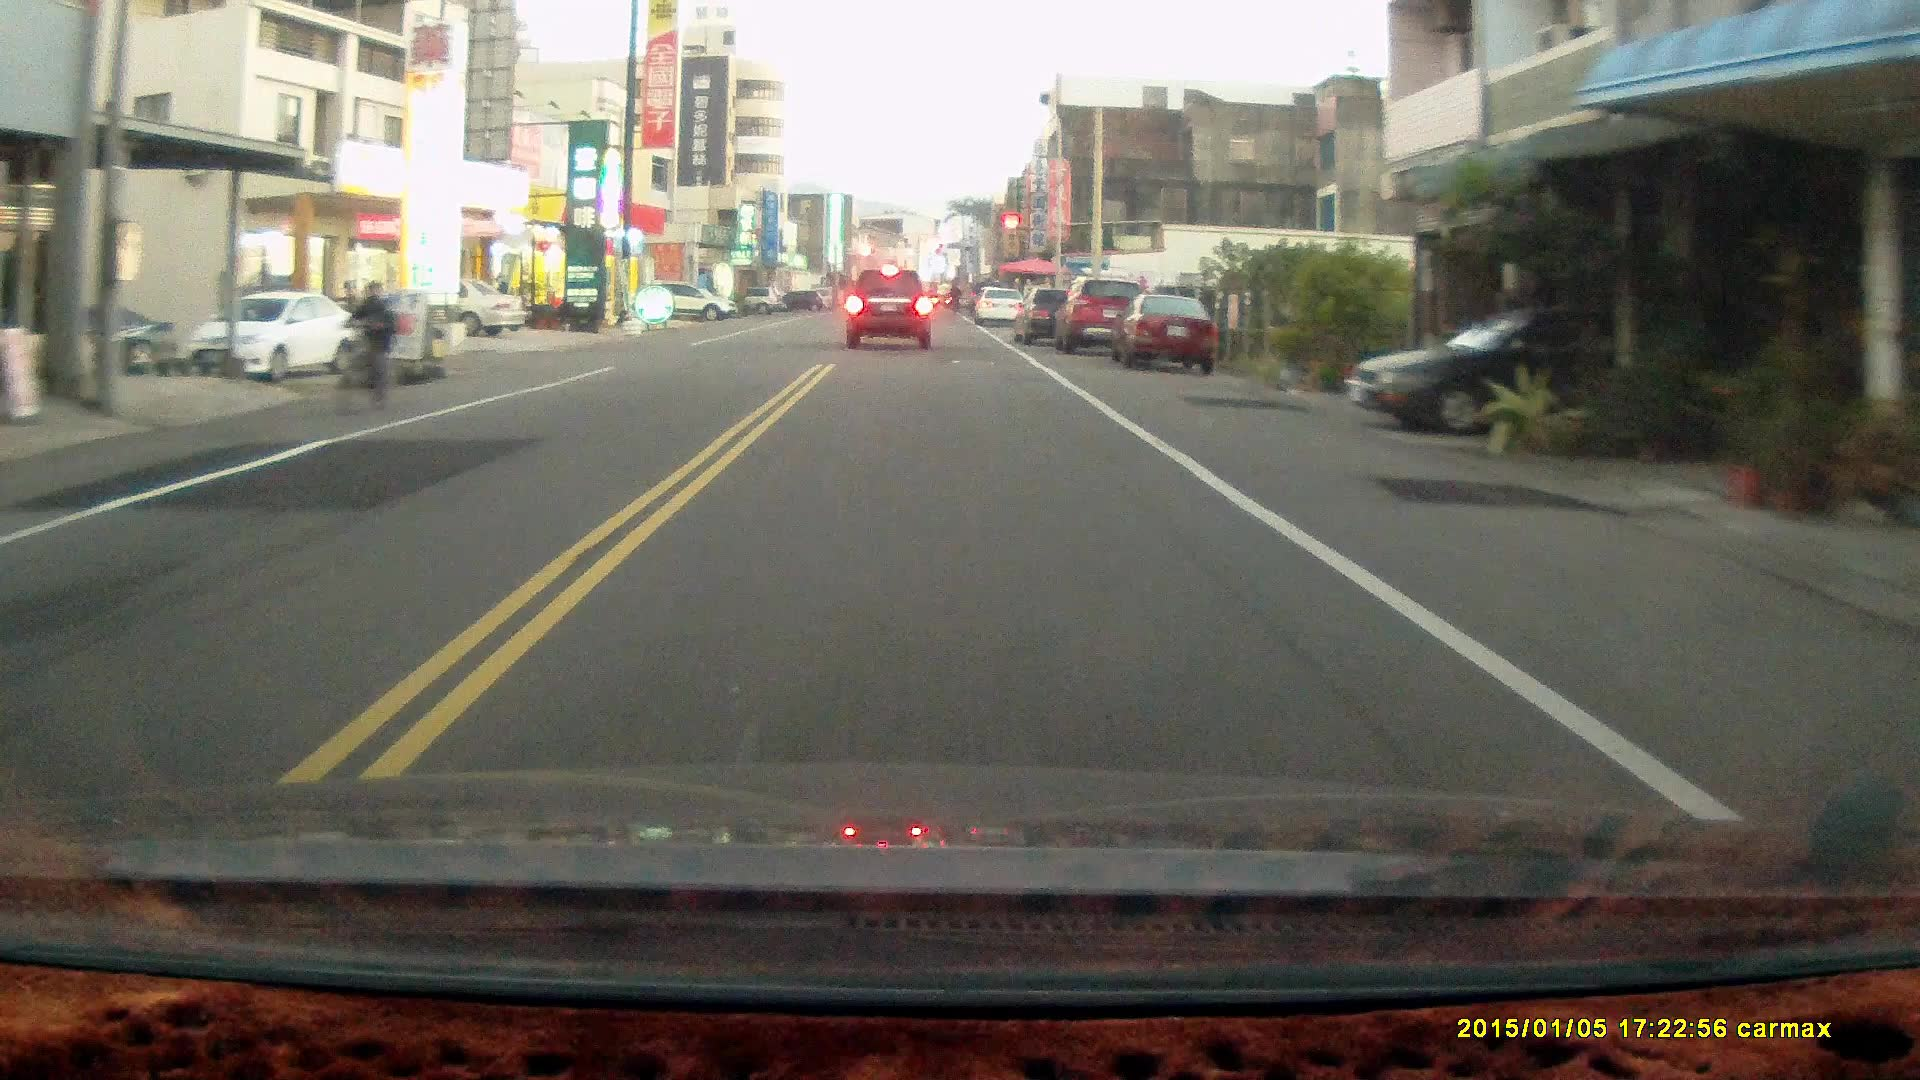rider: (336, 274, 392, 418)
vehicle: (1347, 301, 1743, 433), (193, 288, 360, 381), (1106, 291, 1224, 378), (363, 274, 530, 334), (844, 264, 937, 349), (1056, 277, 1152, 355), (651, 278, 733, 323)
